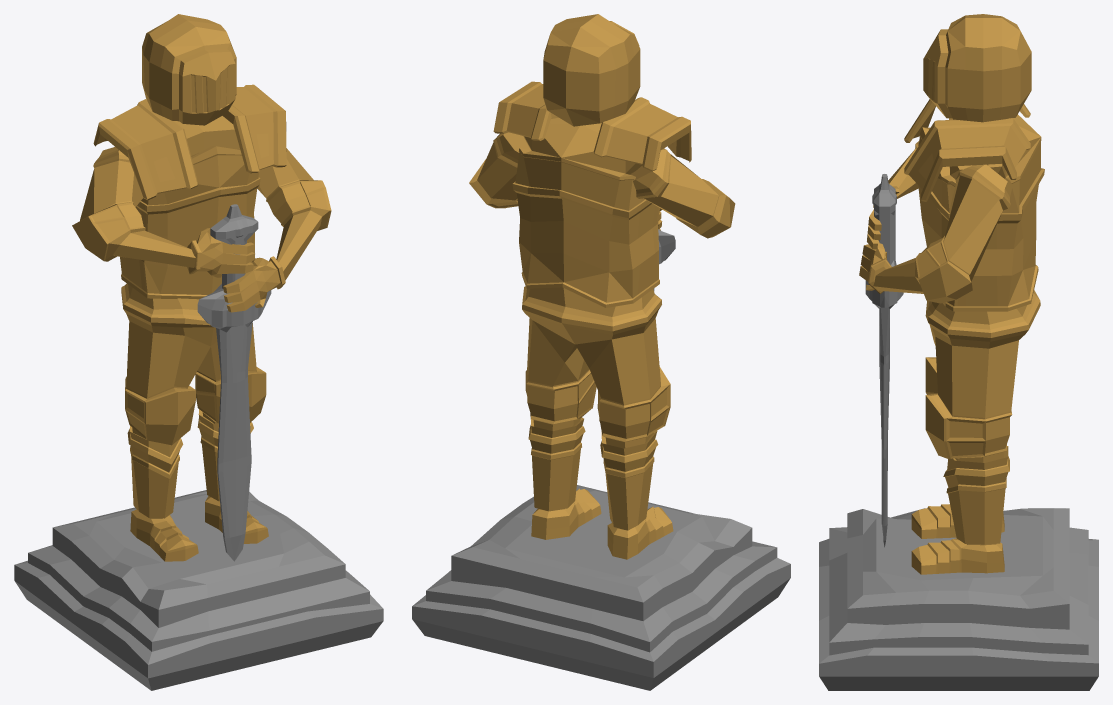
The model's file is KnightStatueGolden.fbx.
3 renders of one model, left to right at view 1: azimuth 30°, elevation 25°; view 2: azimuth 150°, elevation 25°; view 3: azimuth 270°, elevation 25°, orthographic. The views are drawn at different scales.
Parts seen in each view (by area): view 1: KnightStatueGolden; view 2: KnightStatueGolden; view 3: KnightStatueGolden.
Part boxes in pixels (x1,y1,x2,y2): KnightStatueGolden: (14,14,383,690); KnightStatueGolden: (412,14,790,690); KnightStatueGolden: (819,14,1098,690).
Bounding box in the file's own units: 98.21 × 227 × 93.17.
Materials: 1 (1 with a texture image).
